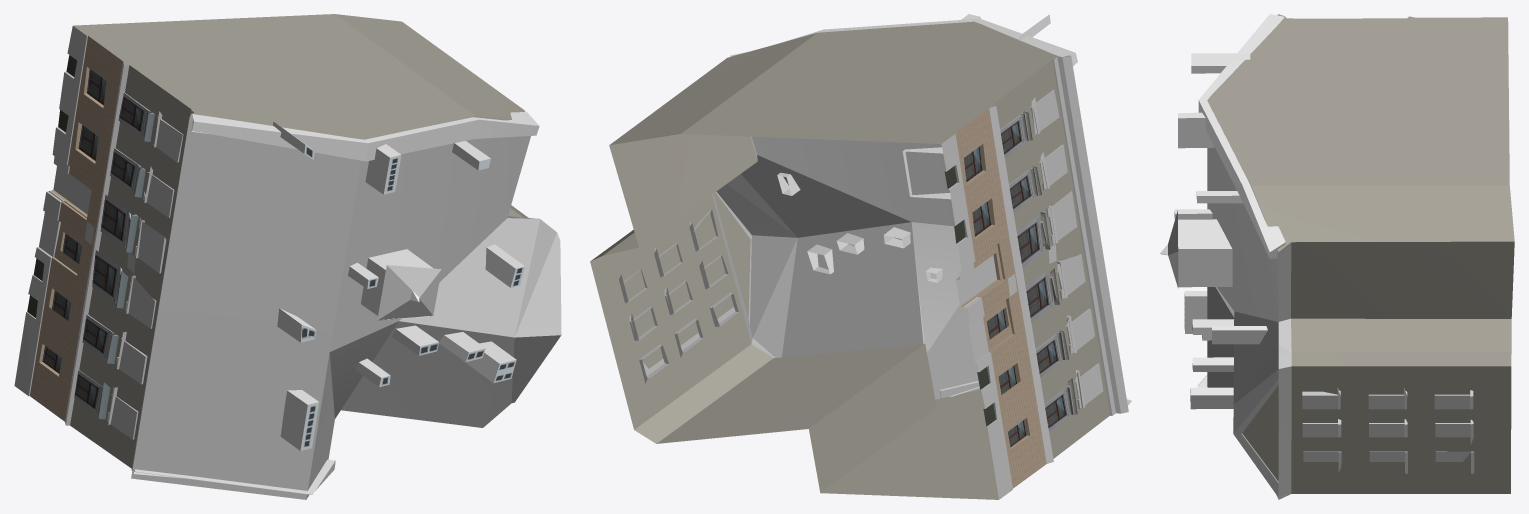
Rendered from Pikk_64_1-origo.obj.
3 views of the same model, side by side, from view 1: azimuth 30°, elevation 25°; view 2: azimuth 150°, elevation 25°; view 3: azimuth 270°, elevation 25° (orthographic). The views are drawn at different scales.
Parts seen in each view (by area): view 1: Pikk_64_1; view 2: Pikk_64_1; view 3: Pikk_64_1.
Part boxes in pixels (<box>): Pikk_64_1: <box>14,14,561,499</box>; Pikk_64_1: <box>590,14,1131,499</box>; Pikk_64_1: <box>1160,14,1514,499</box>.
Bounding box in the file's own units: 25.31 × 21.5 × 19.55.
